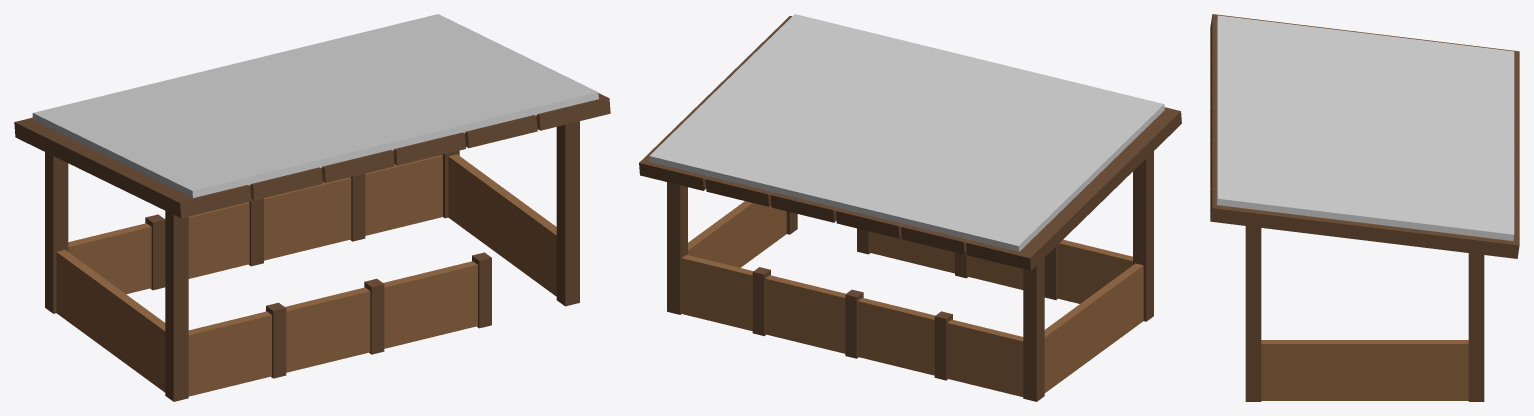
The model's file is ArcheryRange_shed_snow_mat.fbx.
The picture shows the model from 3 angles, left to right: view 1: azimuth 30°, elevation 25°; view 2: azimuth 150°, elevation 25°; view 3: azimuth 270°, elevation 25°; orthographic projection. The views are drawn at different scales.
Visible parts, largest first — view 1: ArcheryRange_shed_snow_mat; view 2: ArcheryRange_shed_snow_mat; view 3: ArcheryRange_shed_snow_mat.
Boxes of the visible parts, x1=… form: ArcheryRange_shed_snow_mat: x1=14, y1=14, x2=610, y2=401; ArcheryRange_shed_snow_mat: x1=639, y1=14, x2=1181, y2=401; ArcheryRange_shed_snow_mat: x1=1210, y1=14, x2=1519, y2=401.
Size of the model in its own units: 378 by 187 by 254.
